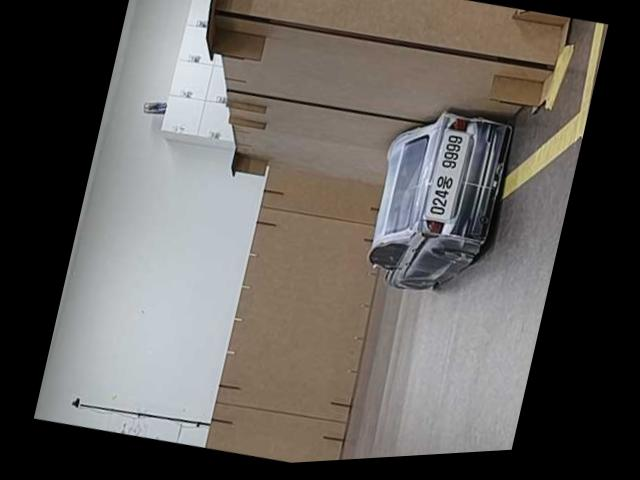car: (348, 87, 518, 313)
id: (418, 121, 473, 228)
